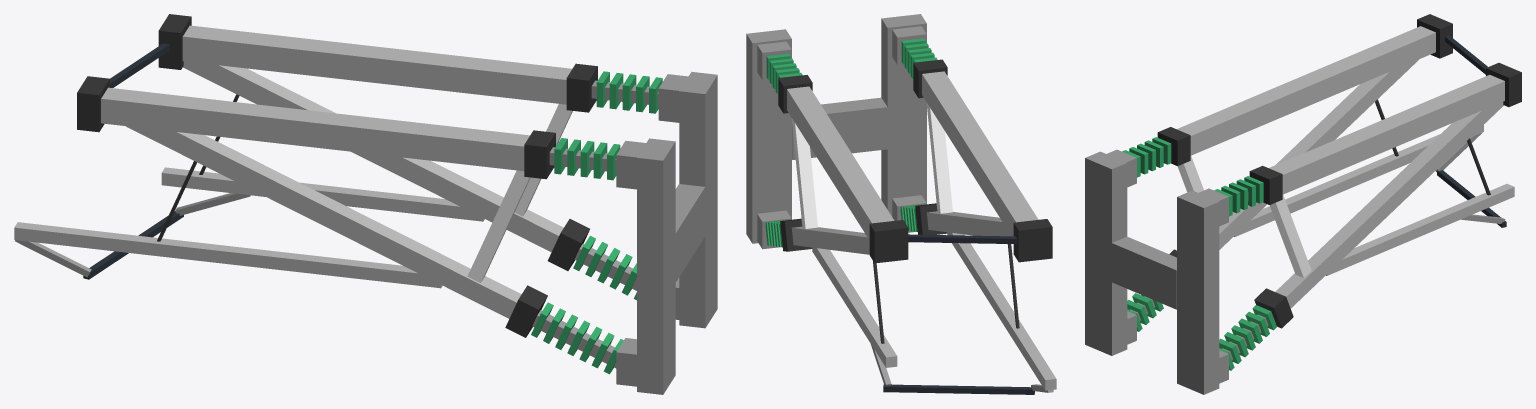
Rendered from catenary_grid_c2_45.obj.
3 renders of one model, left to right at view 1: azimuth 30°, elevation 25°; view 2: azimuth 150°, elevation 25°; view 3: azimuth 270°, elevation 25°, orthographic. The views are drawn at different scales.
Visible parts, largest first — view 1: catenary_grid_a1_45; view 2: catenary_grid_a1_45; view 3: catenary_grid_a1_45.
Boxes of the visible parts, box(x1,y1,x2,y2) form: catenary_grid_a1_45: box(14, 14, 717, 394); catenary_grid_a1_45: box(746, 14, 1056, 394); catenary_grid_a1_45: box(1085, 14, 1521, 394).
Bounding box in the file's own units: 2.83 × 1.19 × 2.52.
